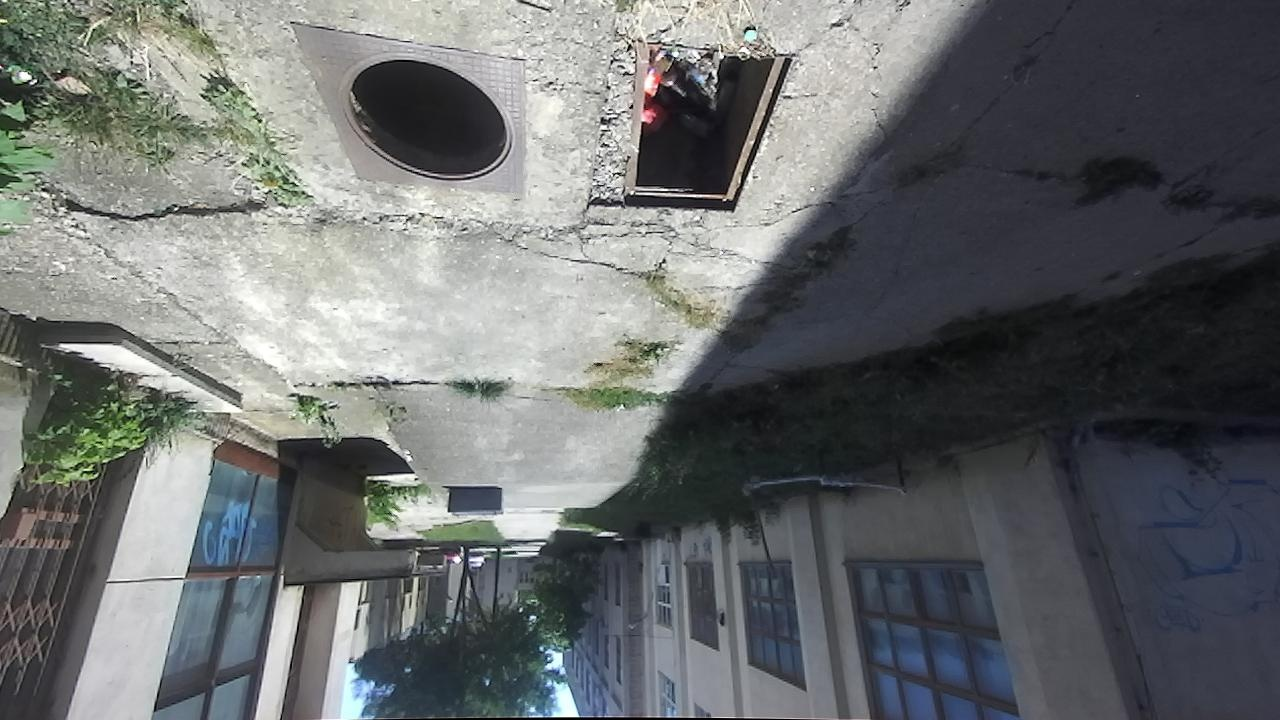drain: (579, 55, 796, 214), (345, 59, 510, 185)
